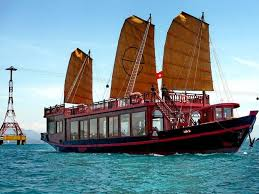tau_dansu: (36, 42, 253, 156)
